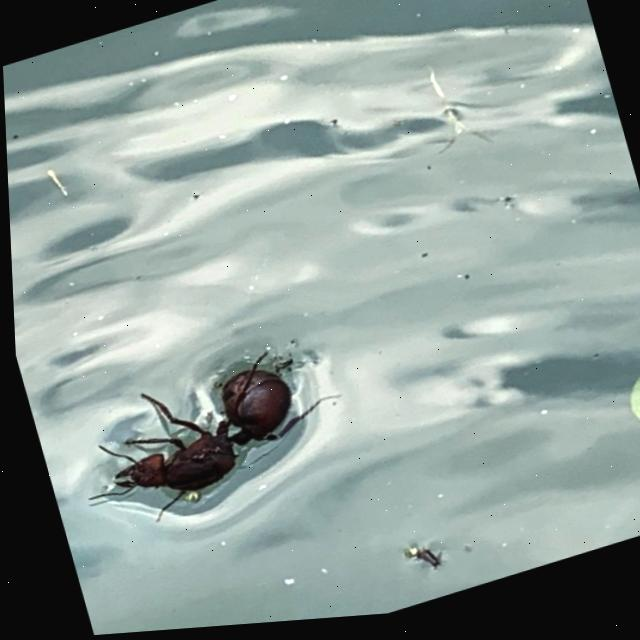Alive-Female-Dealate: (56, 332, 357, 542)
